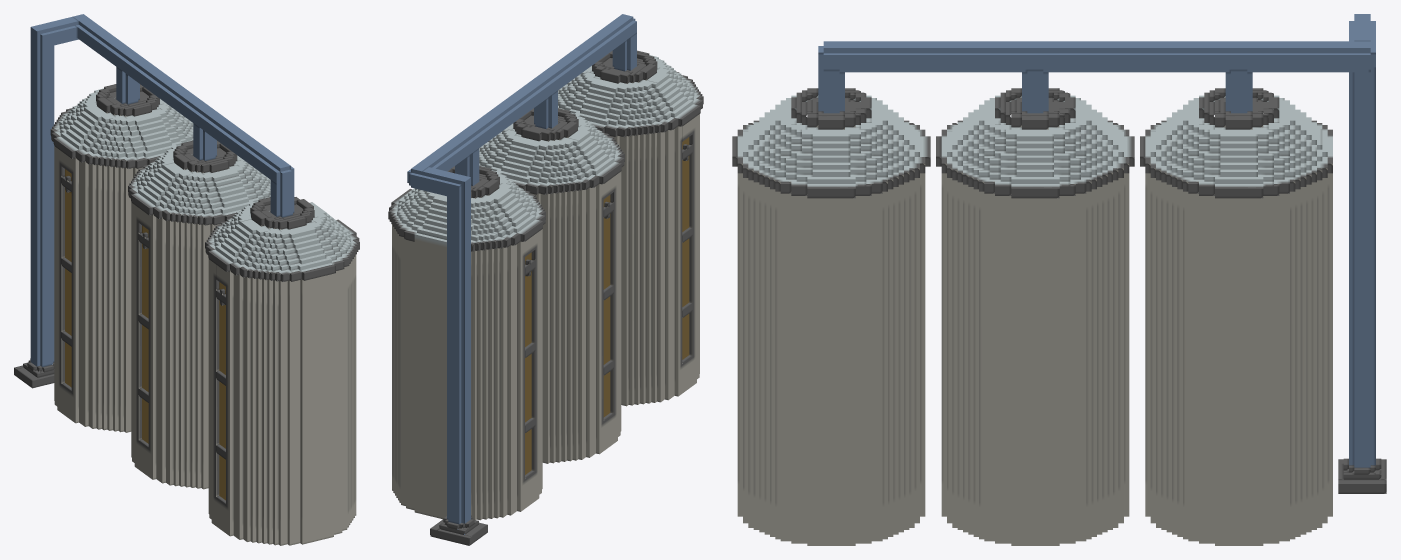
The model's file is 3_silo_ciecz.dae.
3 renders of one model, left to right at view 1: azimuth 30°, elevation 25°; view 2: azimuth 150°, elevation 25°; view 3: azimuth 270°, elevation 25°, orthographic. The views are drawn at different scales.
Visible parts, largest first — view 1: Content; view 2: Content; view 3: Content.
Part boxes in pixels (x1,y1,x2,y2): Content: [14, 14, 359, 545]; Content: [388, 14, 703, 545]; Content: [732, 14, 1386, 545].
Size of the model in its own units: 37 by 95 by 122.
Materials: 1 (1 with a texture image).
